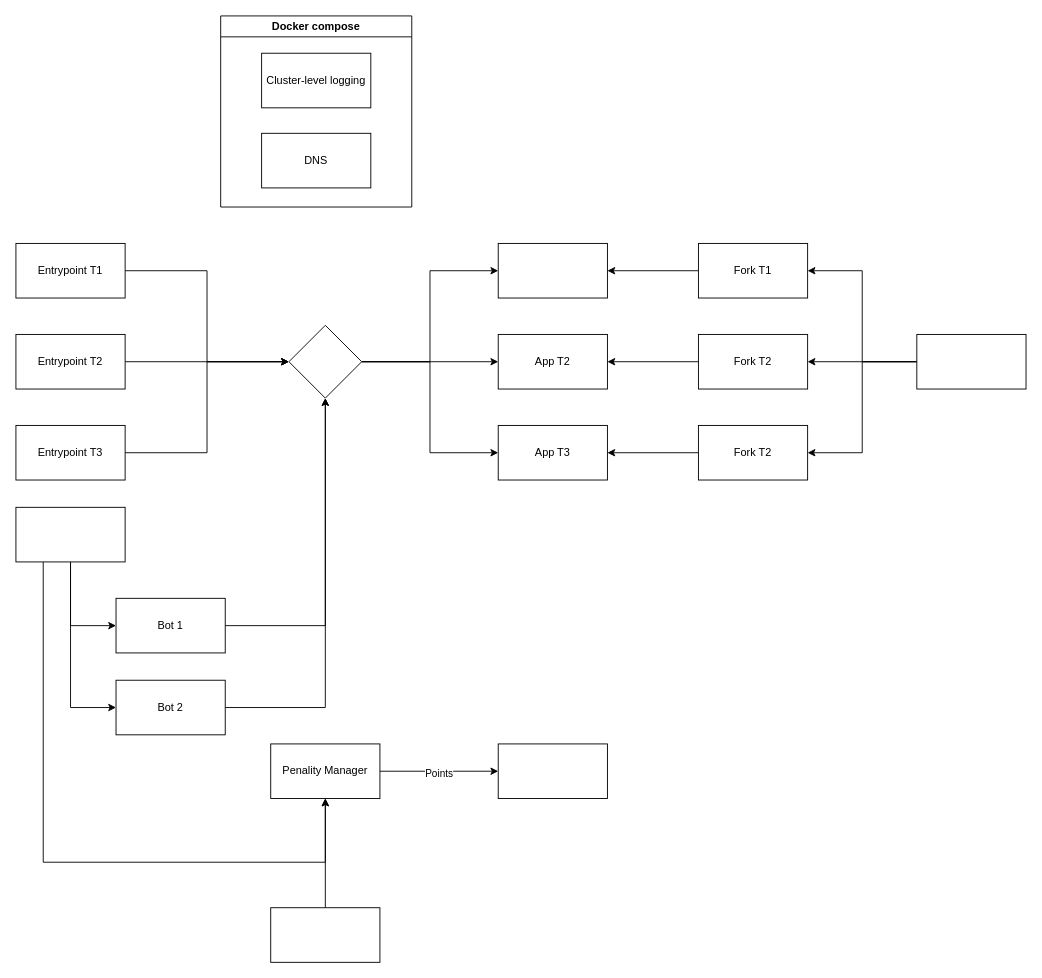
This 1042x978 diagram has some shape labels left out. The shapes that lost their labels are listed below. From the top down, each one's centre as x and y in pixels, then its label:
the point at 552,270: App T1
the point at 325,361: Network
the point at 971,361: Github
the point at 70,534: Healthcheck
the point at 552,771: CTFd
the point at 325,934: Complaint
